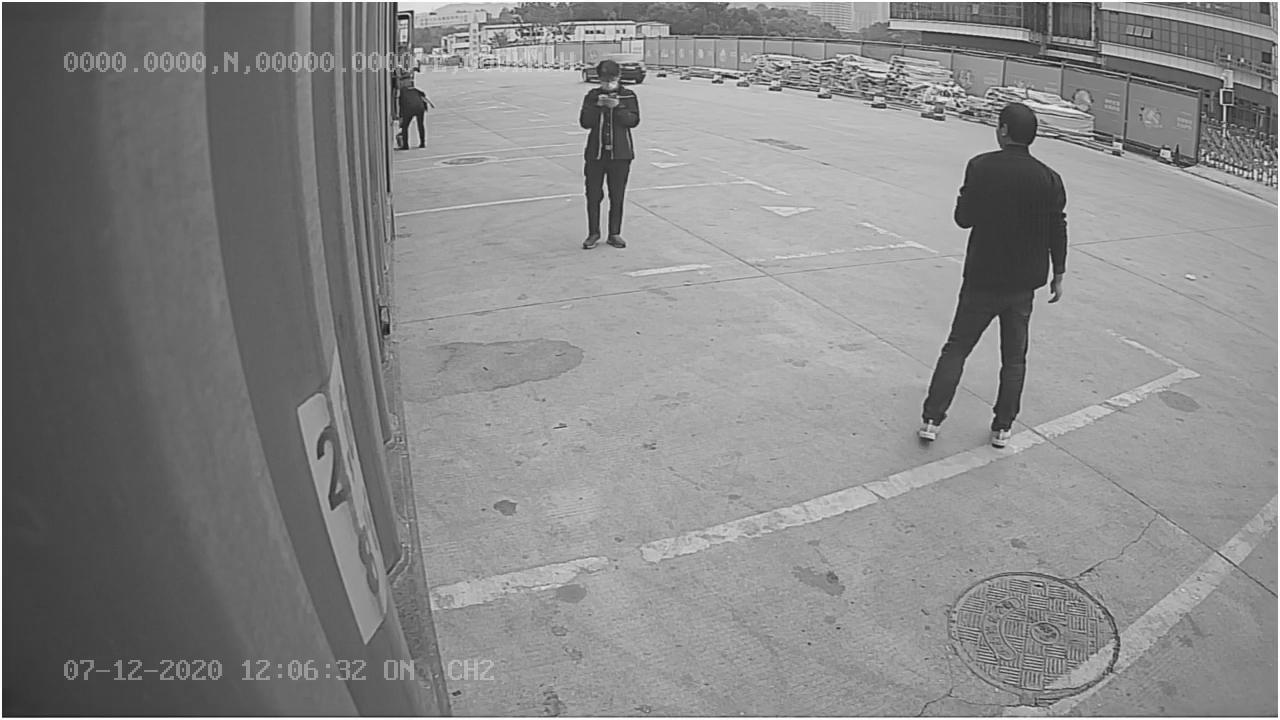person: (907, 100, 1079, 451)
